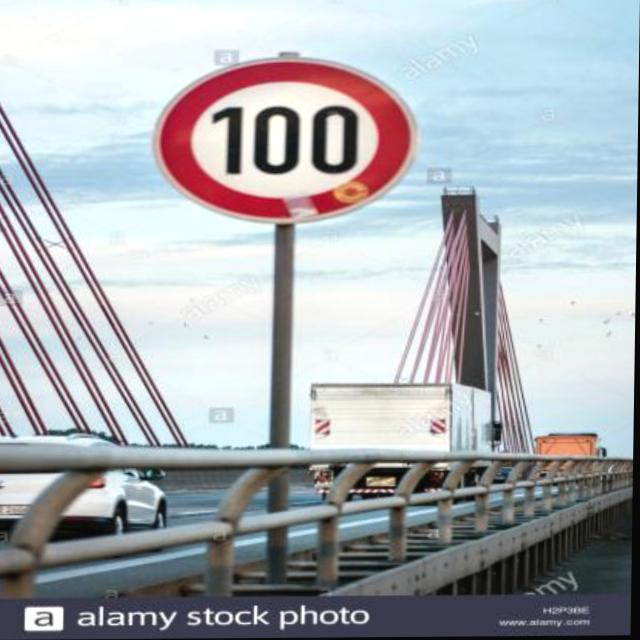limit100: (129, 42, 426, 231)
